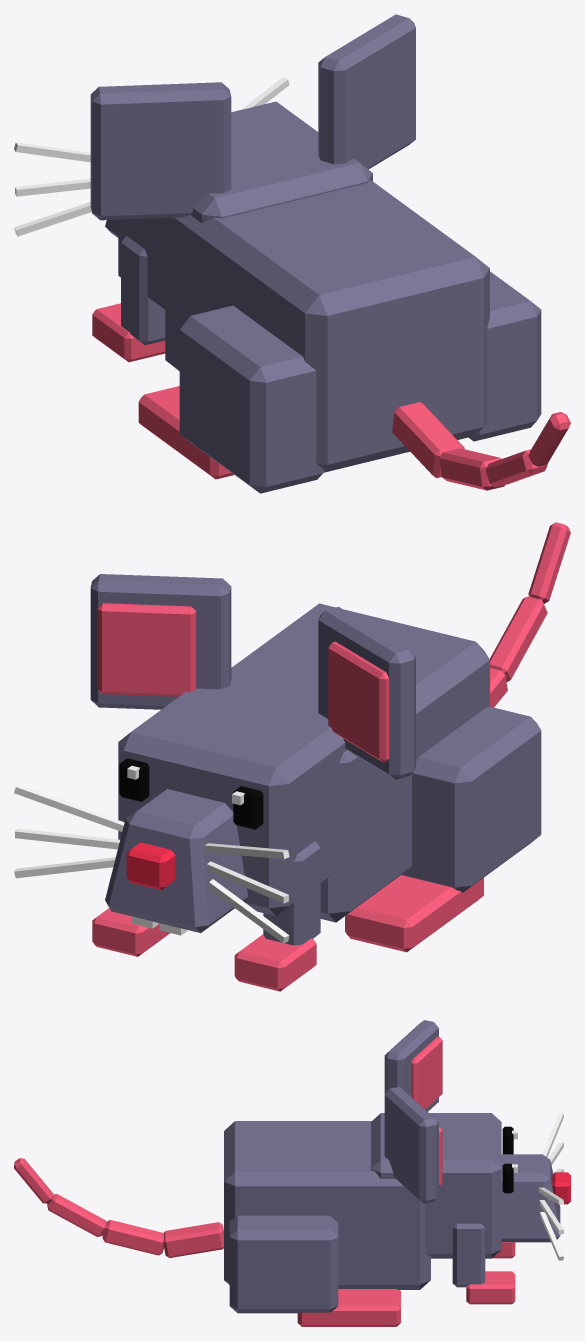
The model's file is Mouse.obj.
3 renders of one model, top to bottom at view 1: azimuth 30°, elevation 25°; view 2: azimuth 150°, elevation 25°; view 3: azimuth 270°, elevation 25°, orthographic. The views are drawn at different scales.
Visible parts, largest first — view 1: Mouse; view 2: Mouse; view 3: Mouse.
Part boxes in pixels (x1=…): Mouse: x1=14, y1=14, x2=570, y2=493; Mouse: x1=14, y1=522, x2=570, y2=991; Mouse: x1=14, y1=1020, x2=570, y2=1326.
Bounding box in the file's own units: 4.53 × 4.35 × 10.24.
